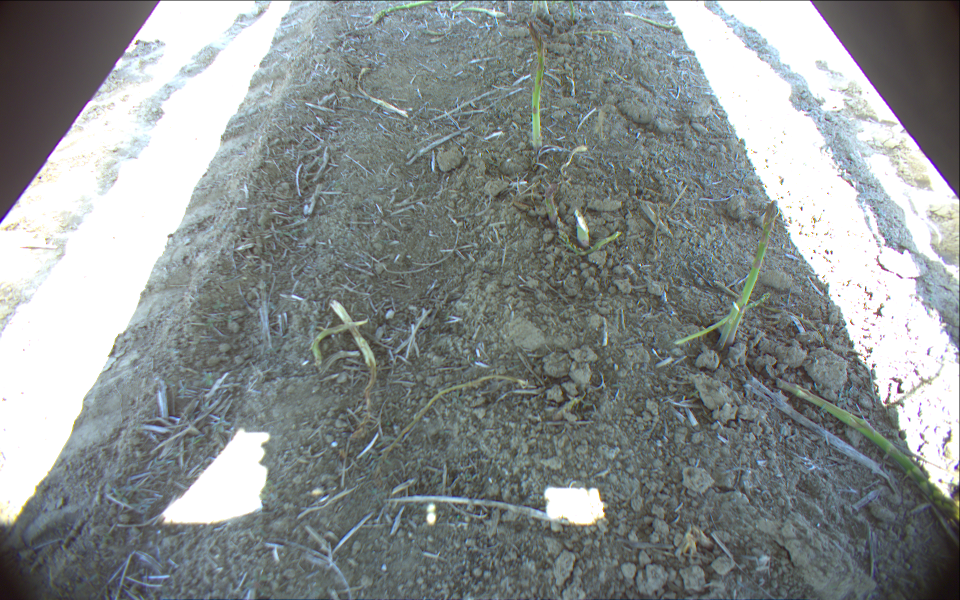aspa: (778, 378, 960, 522), (726, 200, 779, 345), (678, 292, 772, 344), (332, 301, 377, 400), (311, 319, 371, 367), (528, 21, 545, 150), (554, 230, 621, 255), (371, 1, 434, 25), (717, 301, 738, 351), (542, 182, 563, 225), (622, 13, 678, 28), (576, 208, 591, 251), (458, 9, 507, 19), (450, 1, 474, 10), (568, 1, 576, 23), (532, 1, 538, 13)
